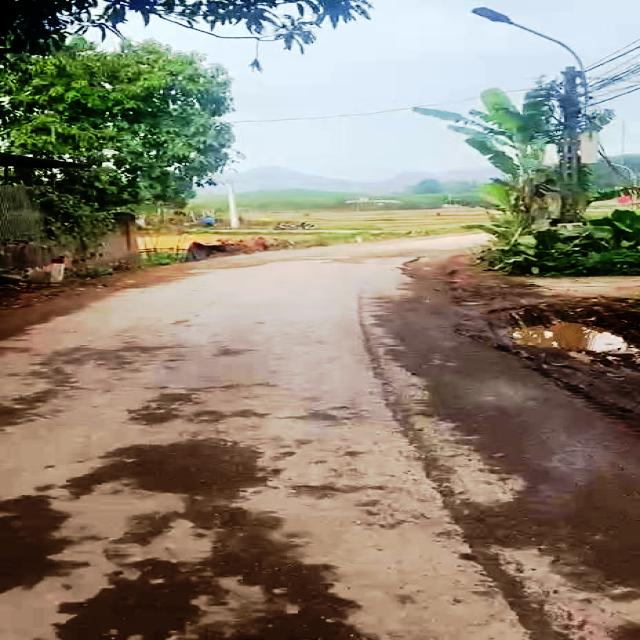pothole: (481, 320, 640, 362)
